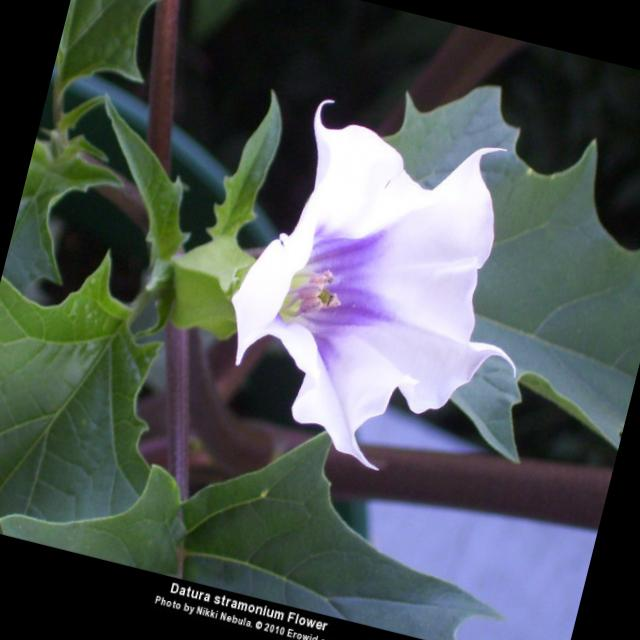Poisonous-Datura_Stramonium: (0, 40, 590, 584)
